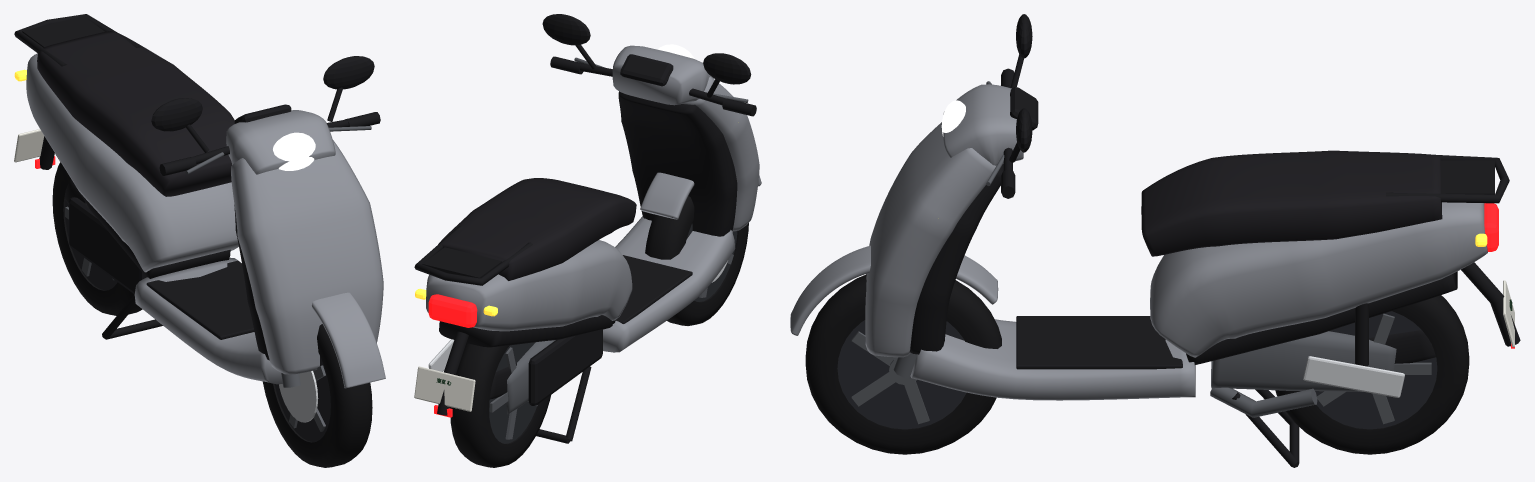
File: scooter_city.glb
The picture shows the model from 3 angles, left to right: view 1: azimuth 30°, elevation 25°; view 2: azimuth 150°, elevation 25°; view 3: azimuth 270°, elevation 25°; orthographic projection. The views are drawn at different scales.
Visible parts, largest first — view 1: scooter_city; view 2: scooter_city; view 3: scooter_city.
Part boxes in pixels (x1,y1,x2,y2): scooter_city: (14, 14, 385, 467); scooter_city: (414, 14, 761, 467); scooter_city: (790, 14, 1520, 467).
Bounding box in the file's own units: 0.728 × 1.07 × 1.84.
